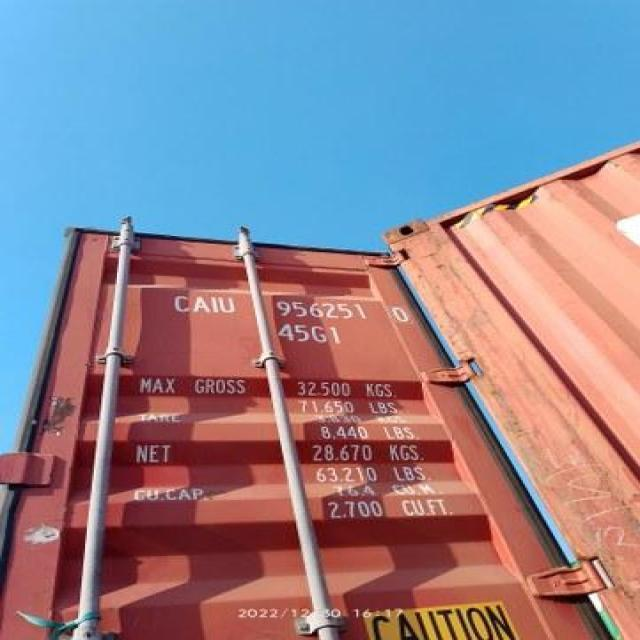ISO: (270, 316, 350, 352)
container_number: (180, 293, 404, 320)
